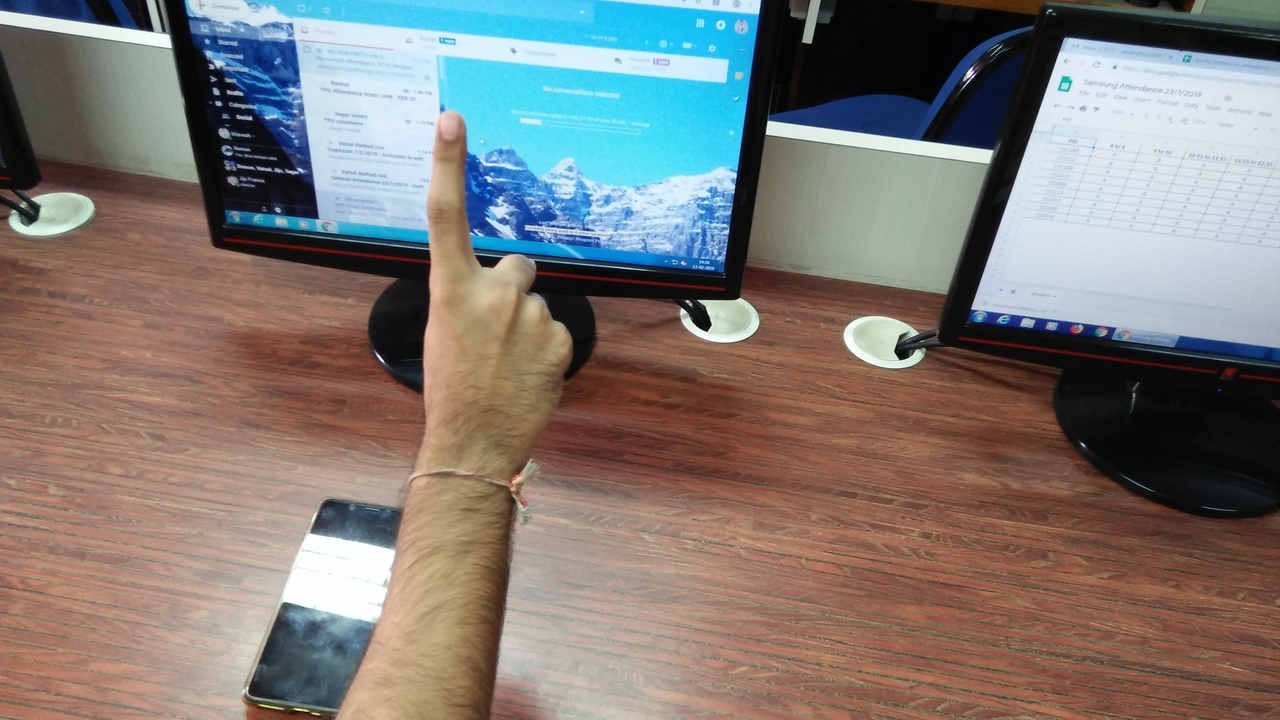fingertip: (424, 98, 472, 140)
